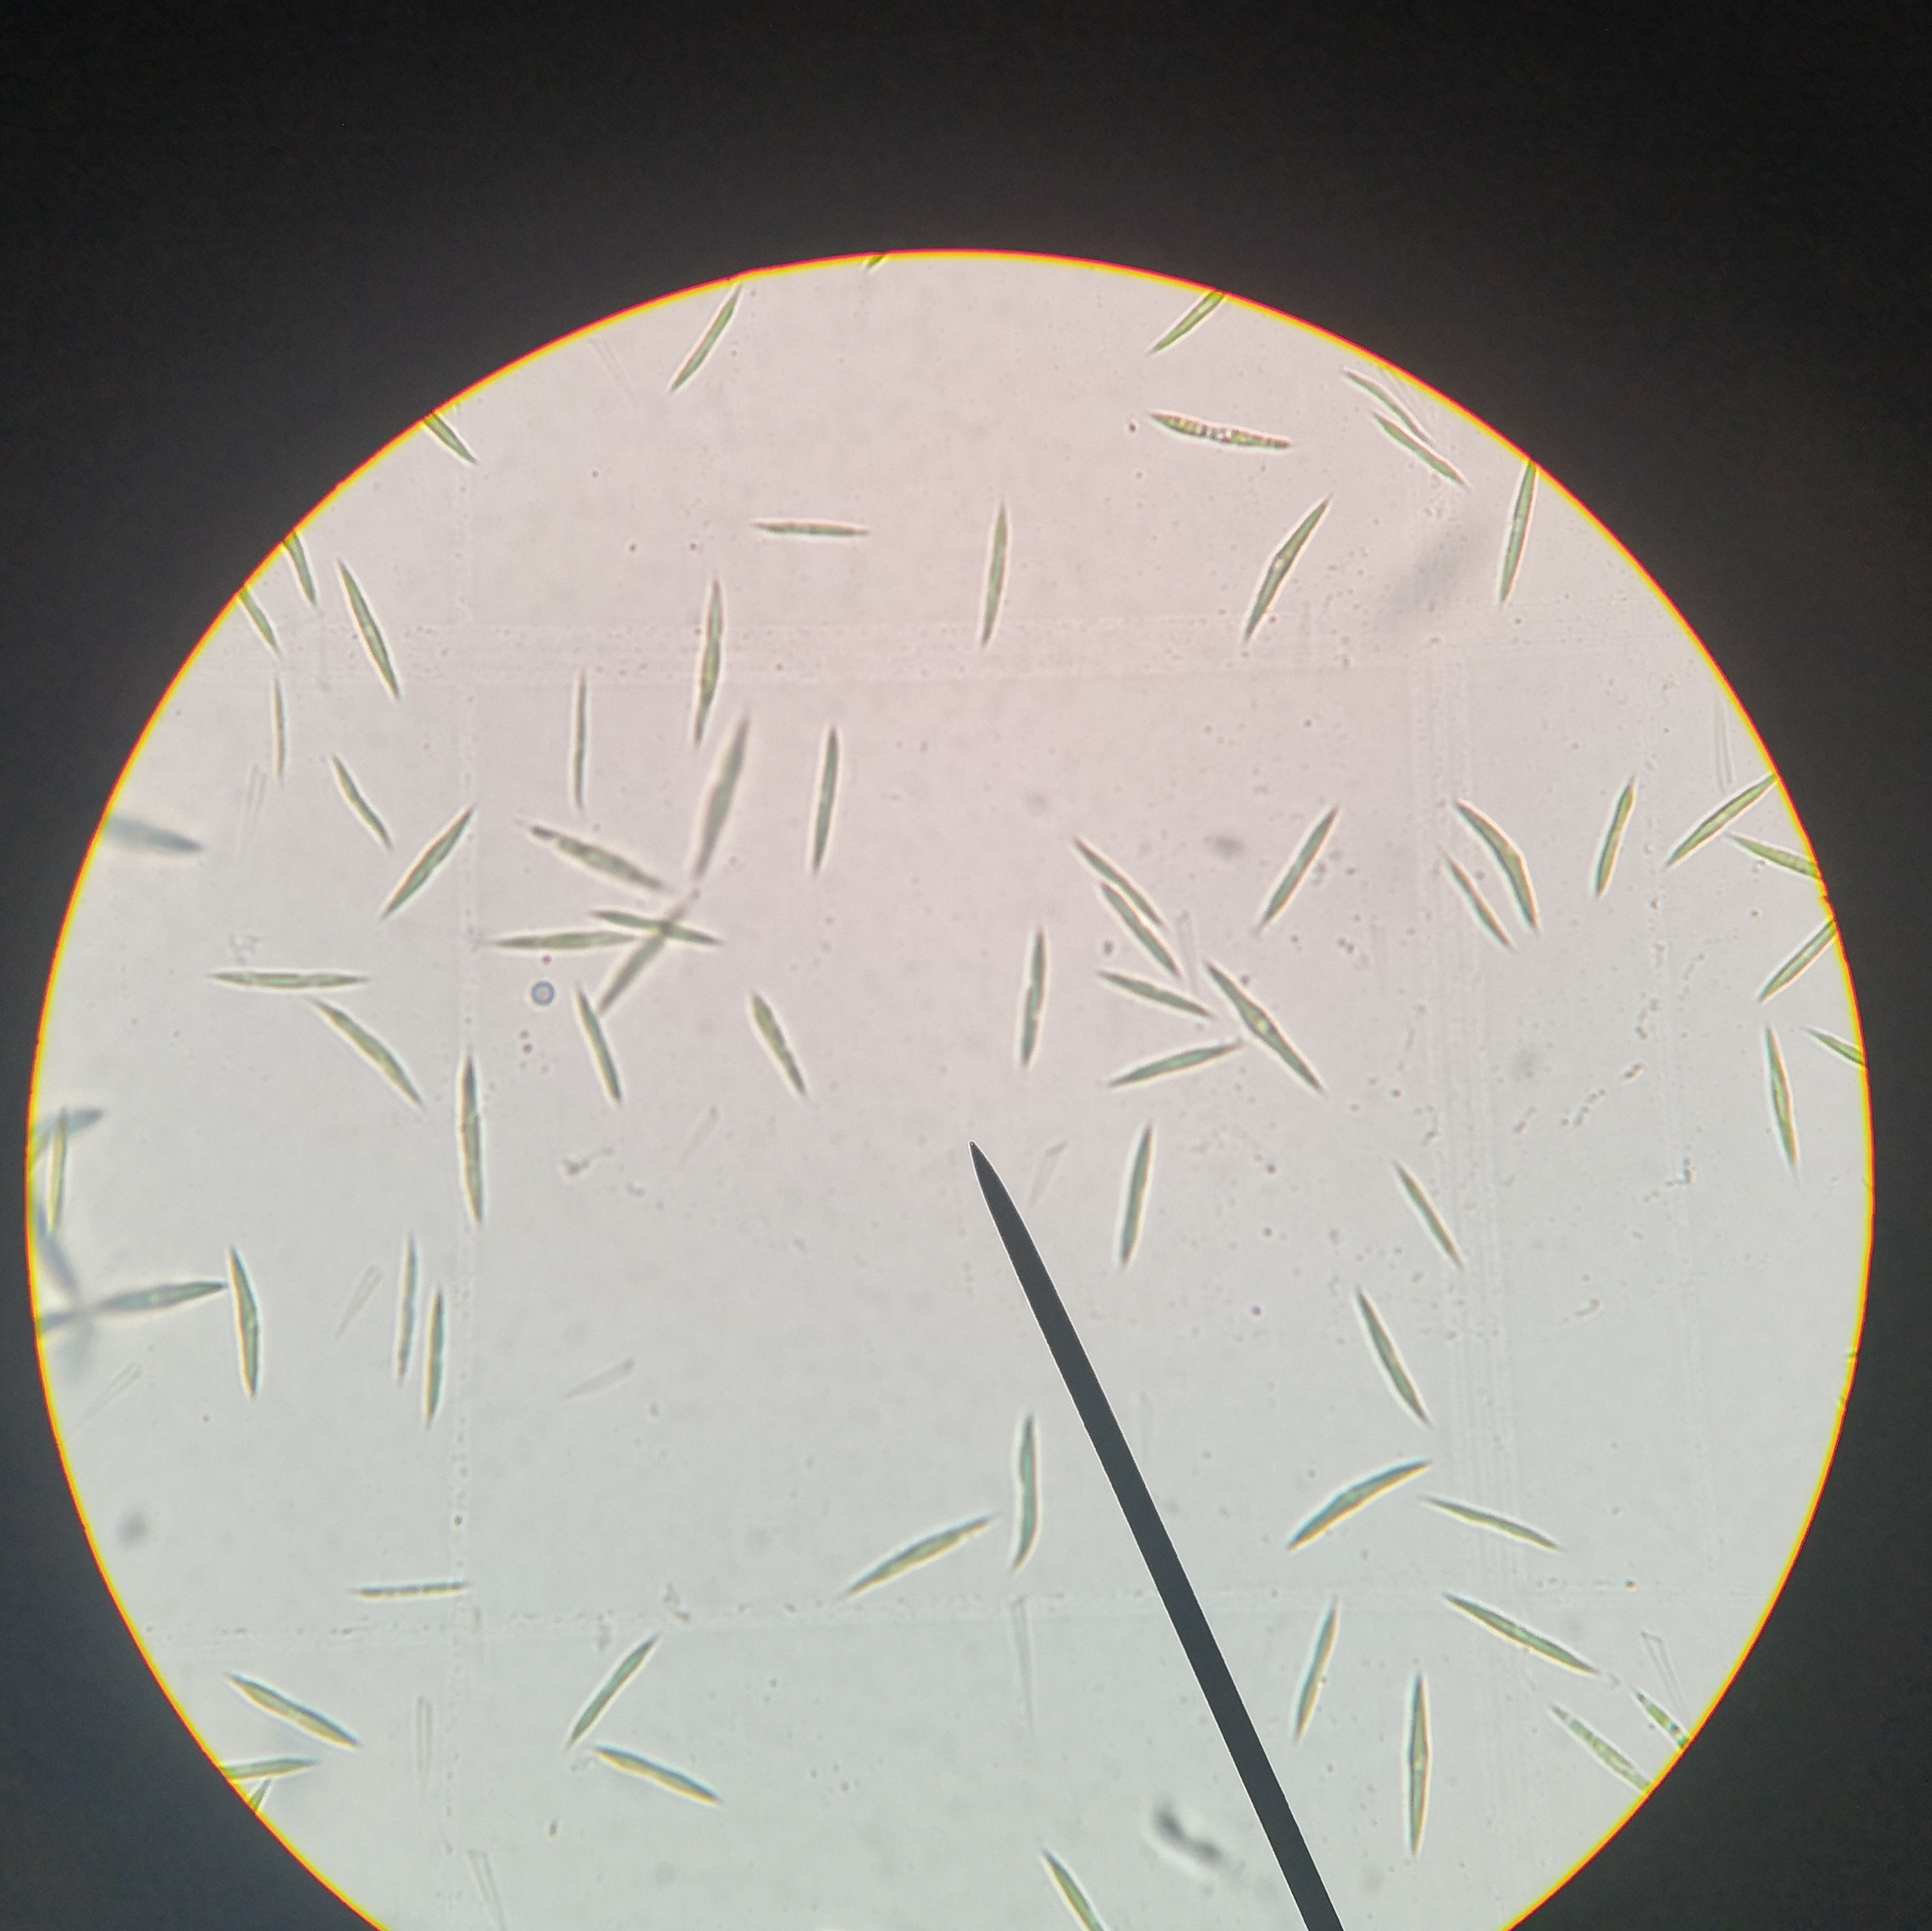Microalgae: (1284, 1445, 1424, 1556), (1203, 958, 1323, 1080), (1442, 1593, 1599, 1676), (1237, 499, 1329, 640), (824, 1515, 984, 1595), (598, 882, 701, 999), (1536, 1694, 1652, 1791), (561, 1630, 658, 1747), (225, 1668, 357, 1751), (1357, 1284, 1431, 1425), (1447, 808, 1543, 912), (1661, 764, 1771, 854), (525, 826, 662, 895), (1261, 805, 1341, 921), (338, 550, 403, 691), (665, 279, 740, 401), (386, 813, 476, 911), (745, 990, 819, 1107), (311, 996, 409, 1084), (1391, 1160, 1467, 1268), (1288, 1602, 1346, 1742), (971, 488, 1019, 658), (1001, 934, 1063, 1065), (1394, 1662, 1435, 1858), (1759, 911, 1842, 1004), (1491, 458, 1545, 599), (1148, 412, 1300, 460), (1366, 414, 1472, 481), (1102, 1040, 1256, 1086), (1437, 1492, 1562, 1547), (582, 987, 633, 1116), (1099, 895, 1177, 980), (85, 1277, 212, 1328), (221, 1256, 267, 1397), (598, 900, 729, 948), (1108, 1132, 1159, 1250), (37, 1102, 80, 1243), (594, 1747, 720, 1795), (1014, 1401, 1046, 1586), (1085, 847, 1169, 916), (324, 757, 391, 843), (1019, 1857, 1095, 1931), (1090, 966, 1207, 1008), (694, 578, 724, 743), (1720, 836, 1826, 882), (193, 960, 370, 987), (736, 513, 878, 545), (276, 515, 322, 612), (464, 1045, 488, 1224), (1767, 1033, 1798, 1164), (409, 400, 474, 460), (1603, 762, 1635, 882), (260, 660, 290, 785), (571, 672, 600, 798), (485, 932, 621, 955), (226, 587, 285, 638), (1640, 1691, 1690, 1751), (338, 1577, 478, 1599), (816, 718, 833, 879), (430, 1284, 449, 1425), (1155, 301, 1212, 348), (200, 1758, 317, 1779)
